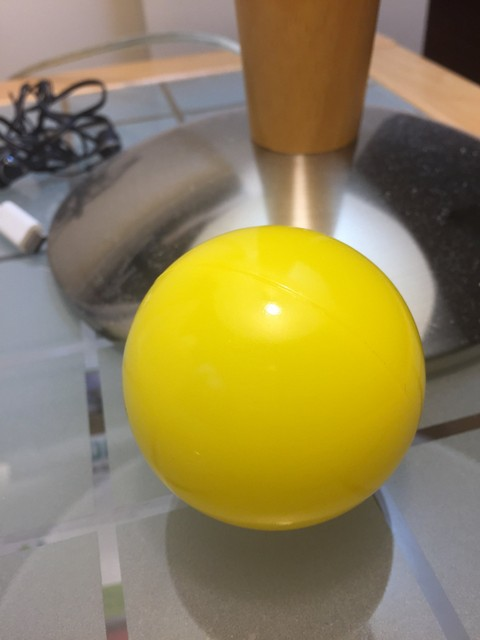ball: (121, 226, 426, 534)
